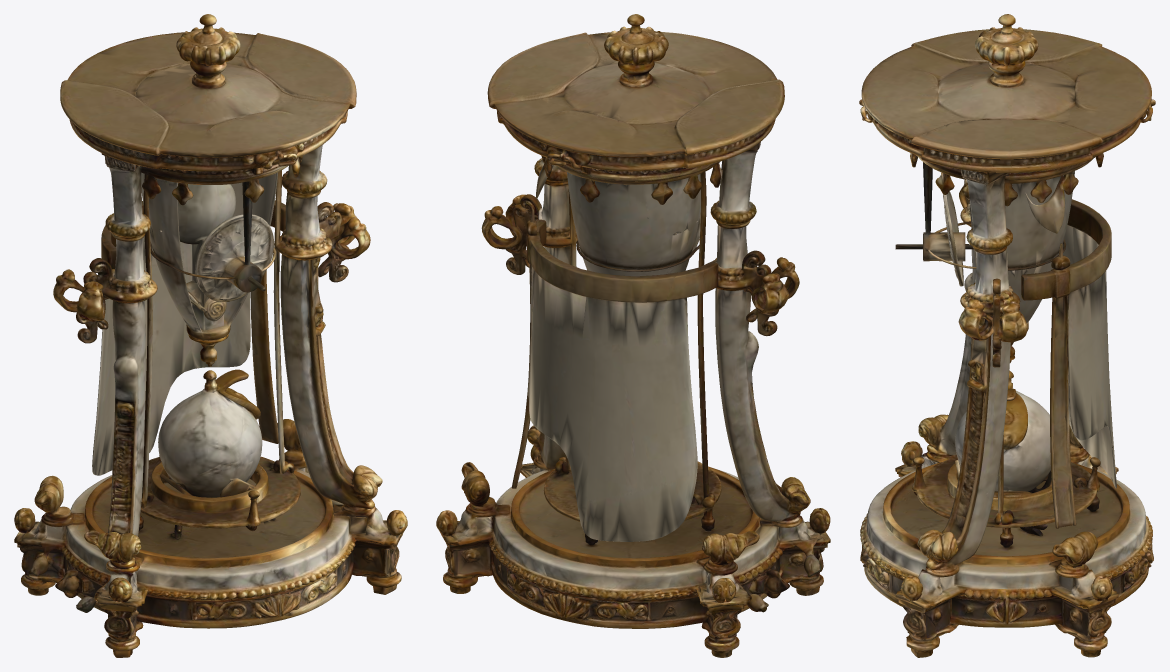
Rendered from water-clock.glb.
3 renders of one model, left to right at view 1: azimuth 30°, elevation 25°; view 2: azimuth 150°, elevation 25°; view 3: azimuth 270°, elevation 25°, orthographic.
Visible parts, largest first — view 1: tripo_node_08fe5c20-0f9e-49a3-afd7-938525b0adc9; view 2: tripo_node_08fe5c20-0f9e-49a3-afd7-938525b0adc9; view 3: tripo_node_08fe5c20-0f9e-49a3-afd7-938525b0adc9.
Part boxes in pixels (x1,y1,x2,y2): tripo_node_08fe5c20-0f9e-49a3-afd7-938525b0adc9: (14,14,407,657); tripo_node_08fe5c20-0f9e-49a3-afd7-938525b0adc9: (436,14,830,657); tripo_node_08fe5c20-0f9e-49a3-afd7-938525b0adc9: (859,14,1155,657).
Size of the model in its own units: 0.5583 by 0.9784 by 0.4583.
1 material, 1 textured.
